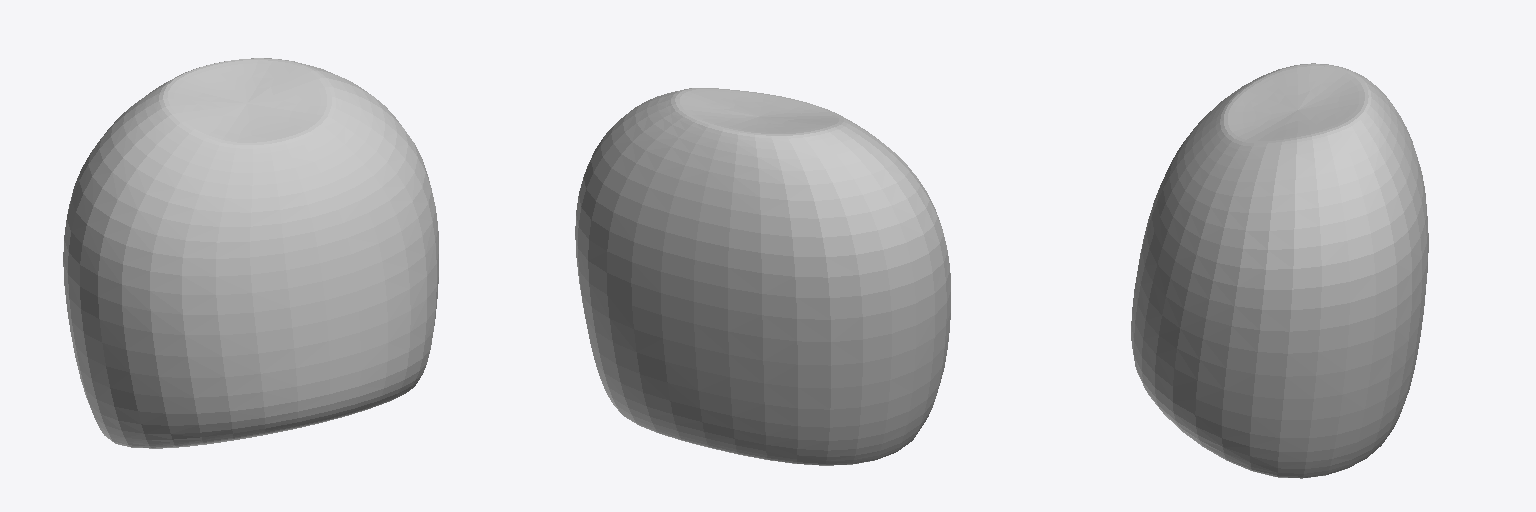
The model's file is Torax.obj.
3 renders of one model, left to right at view 1: azimuth 30°, elevation 25°; view 2: azimuth 150°, elevation 25°; view 3: azimuth 270°, elevation 25°, orthographic.
Visible parts, largest first — view 1: GEO-Body.008_Body.008; view 2: GEO-Body.008_Body.008; view 3: GEO-Body.008_Body.008.
Part boxes in pixels (bbox=[...]): GEO-Body.008_Body.008: bbox=[63, 58, 438, 448]; GEO-Body.008_Body.008: bbox=[575, 88, 950, 465]; GEO-Body.008_Body.008: bbox=[1131, 63, 1428, 478].
Size of the model in its own units: 0.2953 by 0.2621 by 0.2218.